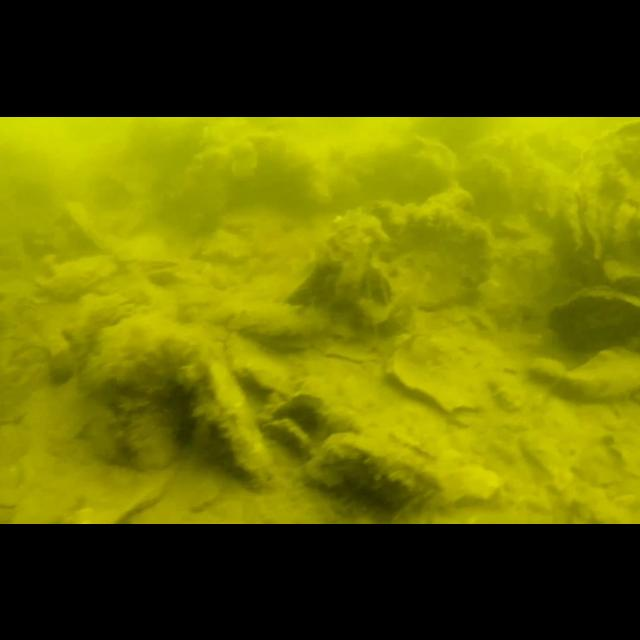Oyster-Closed: (78, 312, 204, 472), (286, 208, 404, 344), (174, 350, 278, 496), (370, 199, 494, 313), (300, 430, 440, 520), (569, 118, 640, 281), (543, 288, 640, 349), (550, 348, 640, 402), (36, 250, 120, 300)
Oyster-Open: (233, 310, 327, 358), (268, 386, 322, 446), (121, 249, 179, 283)
